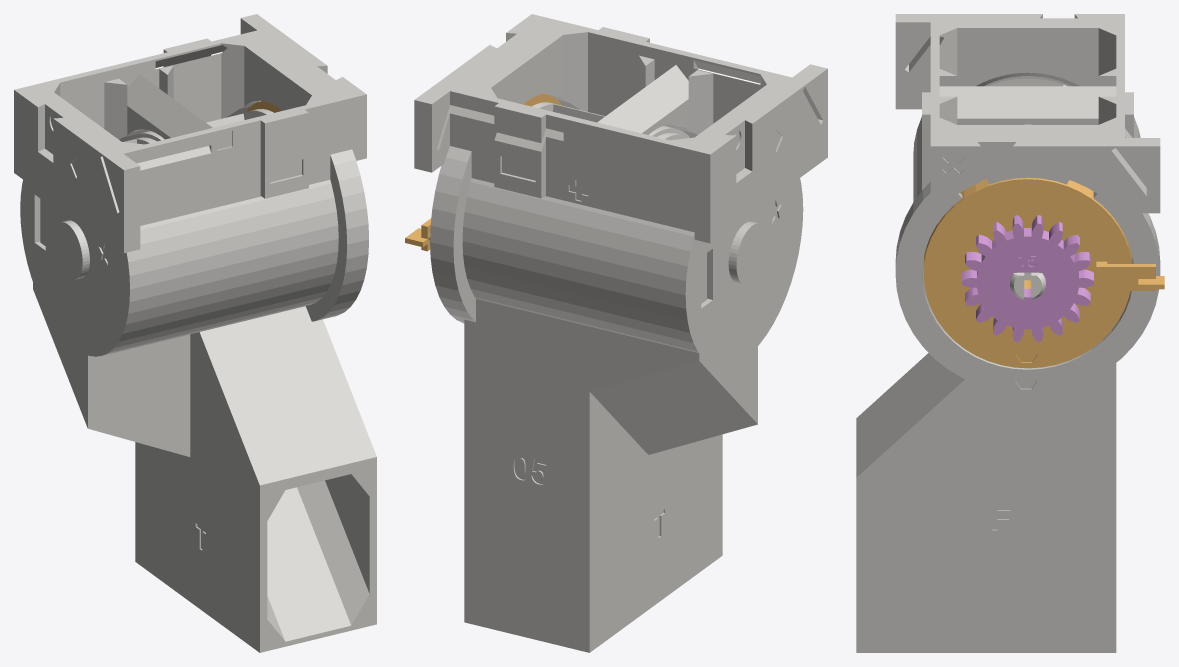
File: a6_endcap.glb
3 renders of one model, left to right at view 1: azimuth 30°, elevation 25°; view 2: azimuth 150°, elevation 25°; view 3: azimuth 270°, elevation 25°, orthographic. The views are drawn at different scales.
Parts seen in each view (by area): view 1: 05_wheel_housing; view 2: 05_wheel_housing, 12_end_cap; view 3: 05_wheel_housing, 12_end_cap, 15_wheel_gear, 17_shaft, 06_treat_wheel.
Boxes of the visible parts, bbox=[...] form: 05_wheel_housing: bbox=[14, 14, 376, 652]; 05_wheel_housing: bbox=[414, 14, 827, 652]; 12_end_cap: bbox=[405, 93, 561, 251]; 05_wheel_housing: bbox=[856, 14, 1160, 652]; 12_end_cap: bbox=[923, 177, 1164, 368]; 15_wheel_gear: bbox=[961, 215, 1093, 342]; 17_shaft: bbox=[1010, 272, 1045, 299]; 06_treat_wheel: bbox=[988, 78, 1066, 86].
Size of the model in its own units: 0.0734 by 0.1299 by 0.0699.
